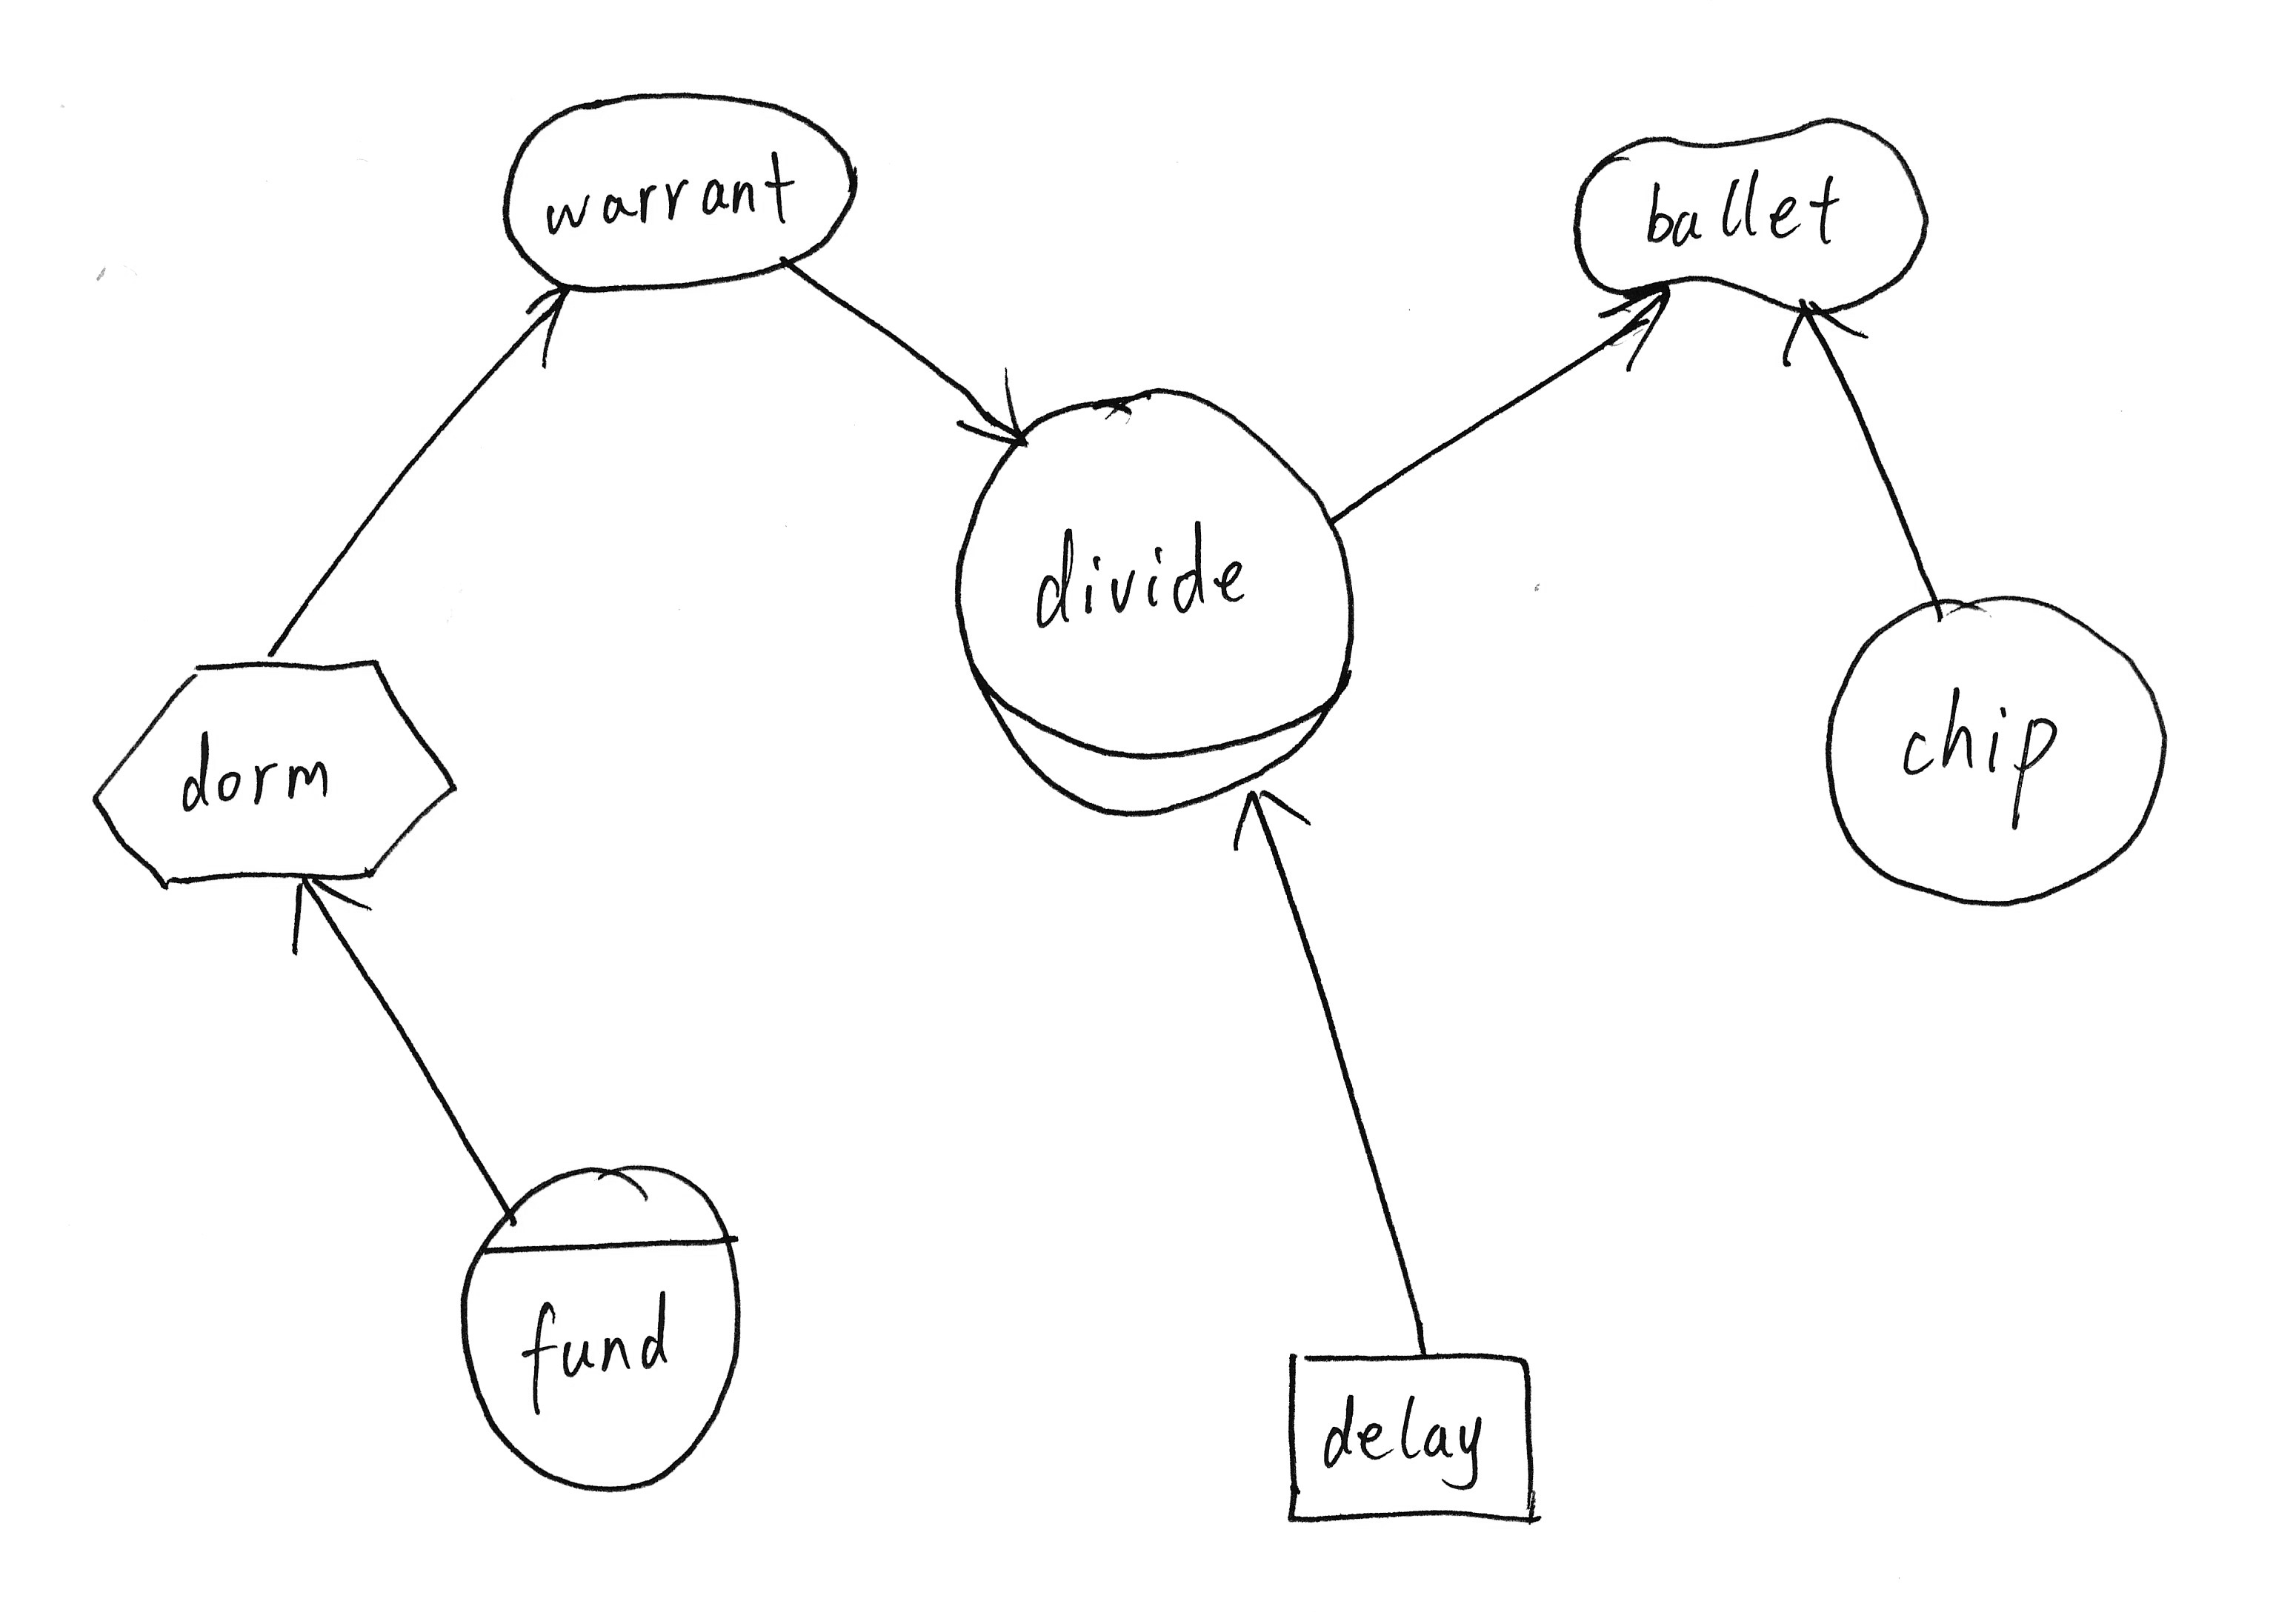actor: (1806, 575, 2185, 919)
agent: (437, 1132, 773, 1510)
arrow: (940, 339, 1051, 460), (274, 849, 383, 970), (1771, 279, 1885, 387), (1590, 264, 1690, 383), (1219, 775, 1330, 870), (516, 269, 590, 380)
goal: (485, 77, 880, 313)
quality: (1548, 97, 1952, 330)
resource: (1265, 1327, 1562, 1552)
role: (931, 364, 1381, 831)
task: (74, 634, 483, 903)
